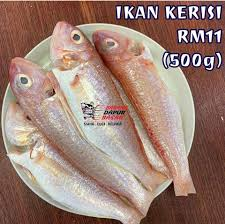Ikan Kerisi: (91, 22, 209, 203), (43, 13, 116, 174), (9, 50, 73, 180)
